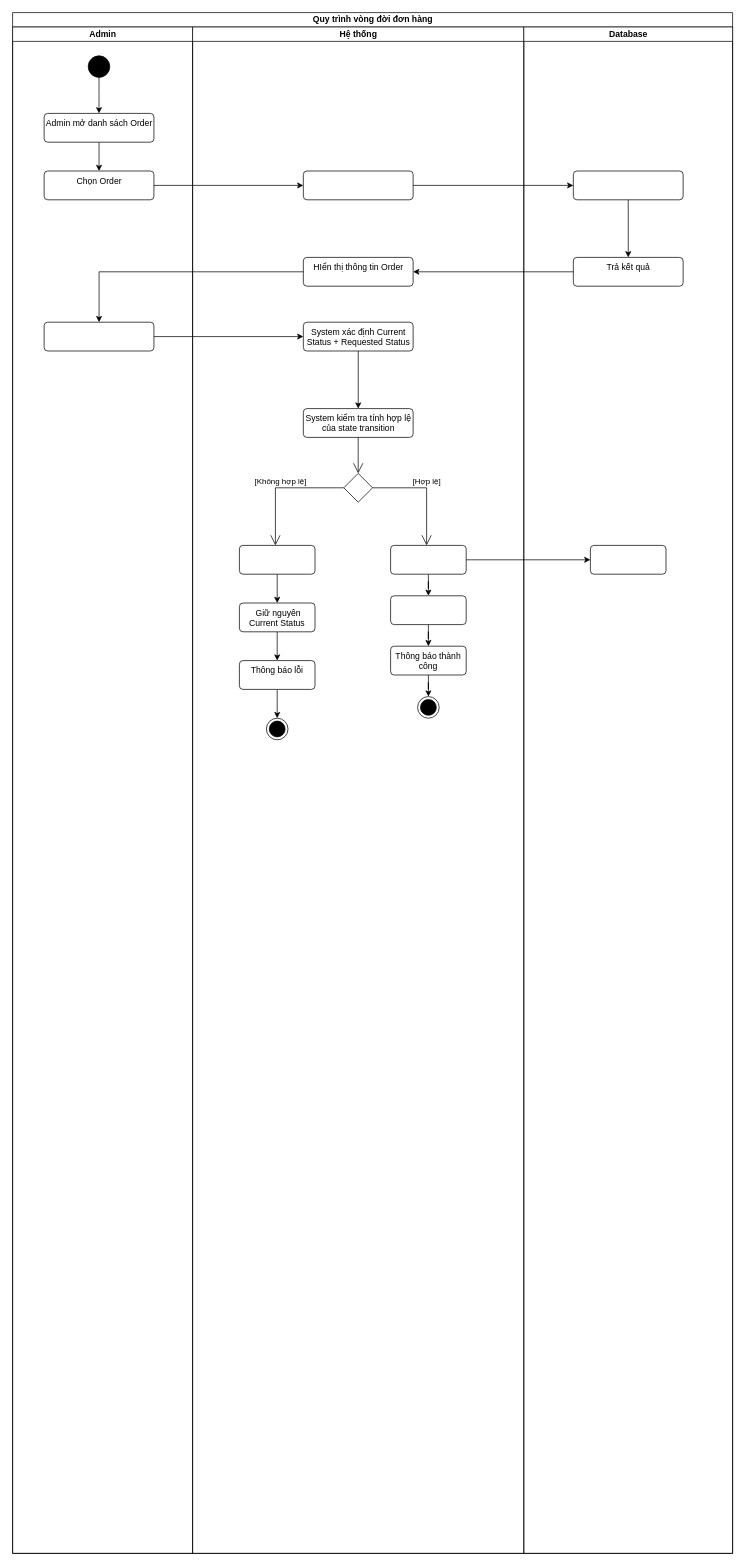
The diagram is 745 pixels wide and 1566 high, and some of its shapes have lost their labels. The centre of each missing label's shape, as x and y in pixels:
Admin yêu cầu chuyển trạng thái: (x=98, y=336)
Ghi nhận thay đổi: (x=428, y=610)
Gửi Request hiển thị thông tin Order: (x=358, y=185)
Lưu status mới: (x=428, y=559)
Truy vấn Order: (x=628, y=185)
Từ chối thay đổi: (x=277, y=559)
Update Order Status: (x=628, y=559)
